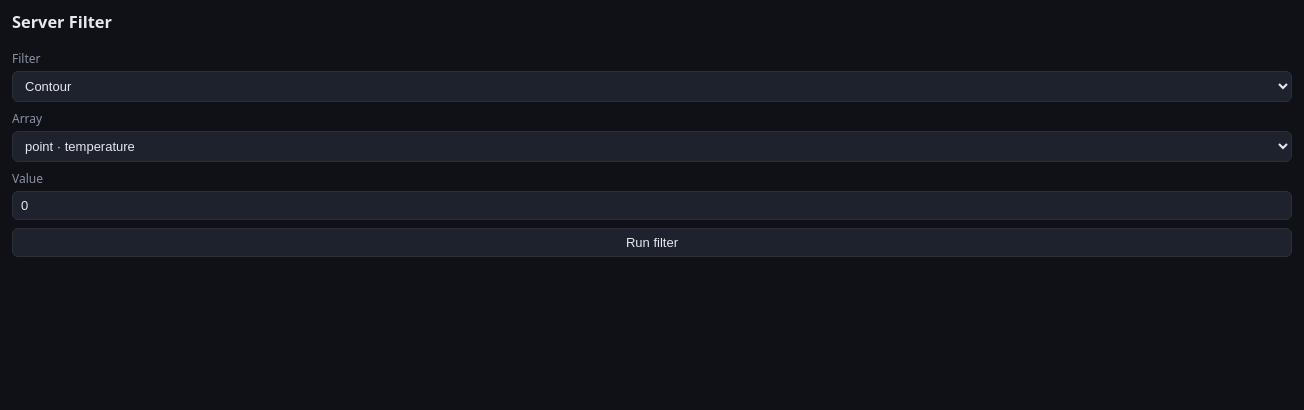
Test: ServerFilterSection › accepts the resample sample-count boundary and rejects a product above it
Select "Resample To Image" in the dropdown labelled "Filter" at (652, 86), box [12,71,1292,102]
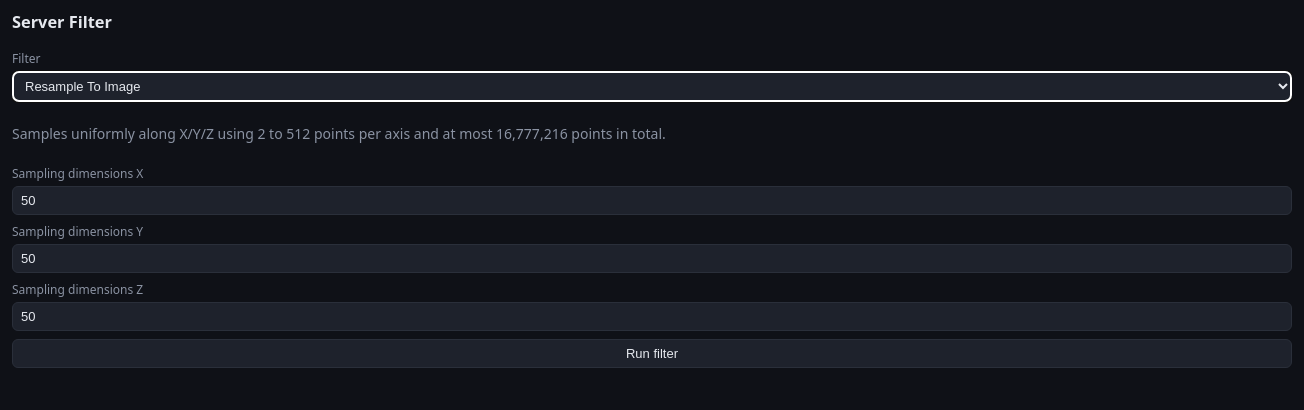
Replace the text in the number field labelled "Sampling dimensions X" with "256" at (652, 200), box [12,186,1292,215]
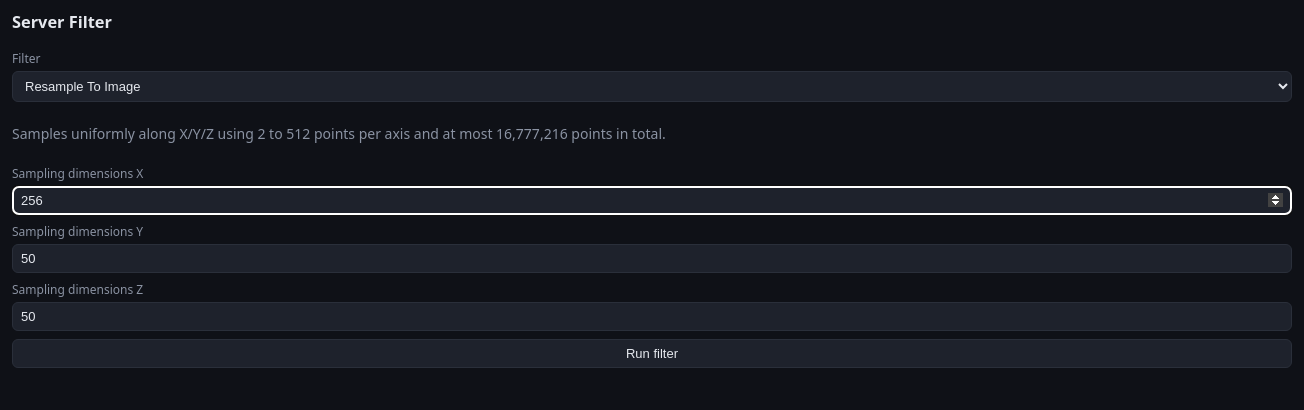
Replace the text in the number field labelled "Sampling dimensions Y" with "256" at (652, 258), box [12,244,1292,273]
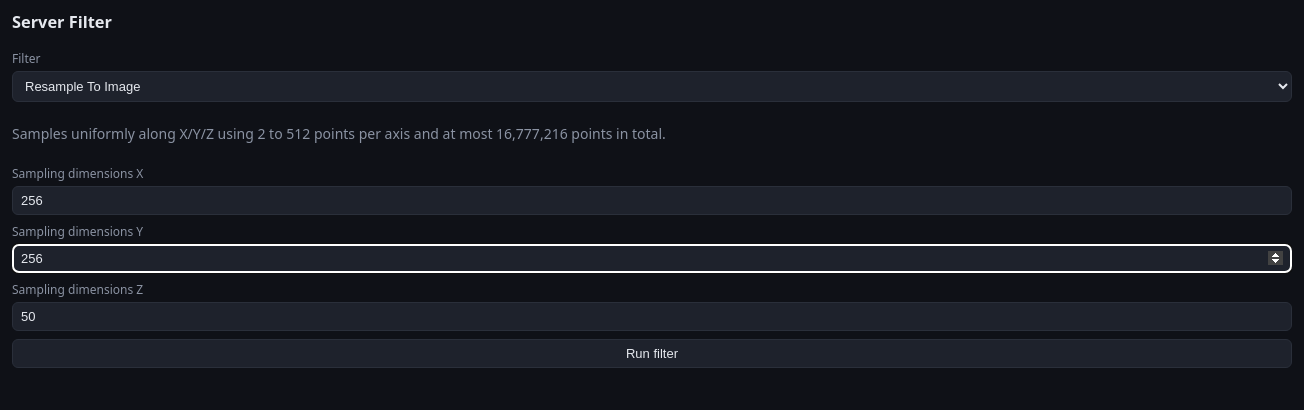
Replace the text in the number field labelled "Sampling dimensions Z" with "256" at (652, 316), box [12,302,1292,331]
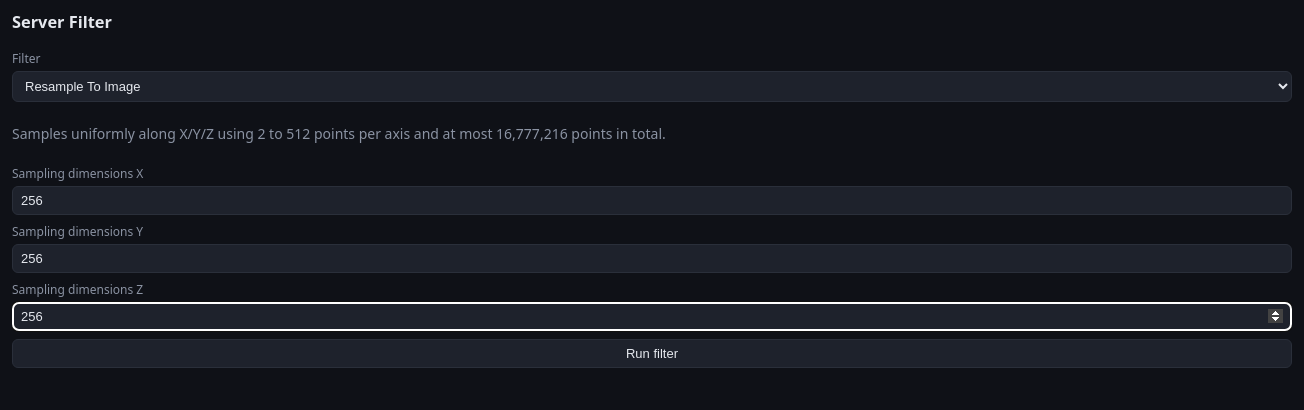
Check: the text "The total sampling dimensions must not exceed 16,777,216 samples." is not shown
Click the button "Run filter" at (652, 353), box [12,339,1292,368]
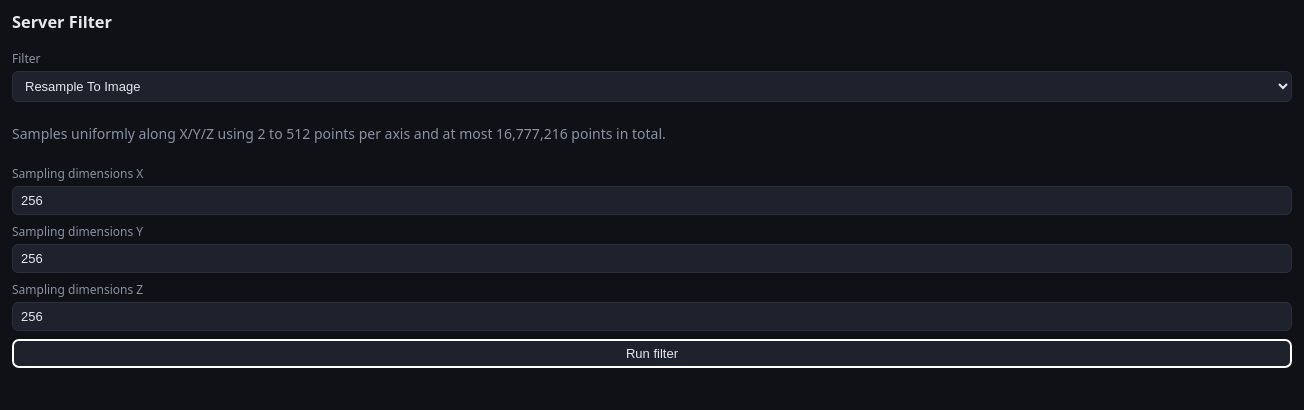
Replace the text in the number field labelled "Sampling dimensions X" with "257" at (652, 200), box [12,186,1292,215]
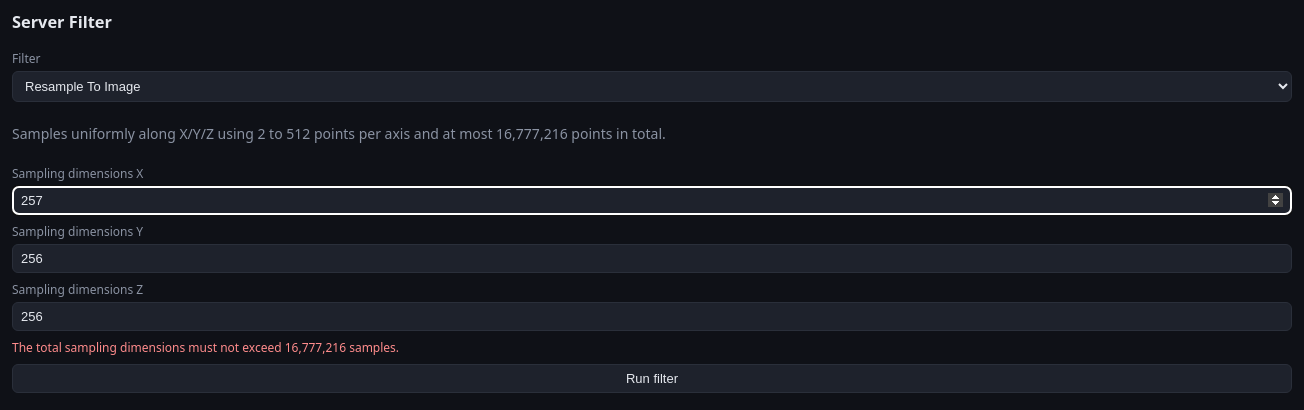
Check: the button "Run filter" is disabled, box [12,364,1292,393]
Check: the message reads "The total sampling dimensions must not exceed 16,777,216 samples.", box [12,339,399,356]
